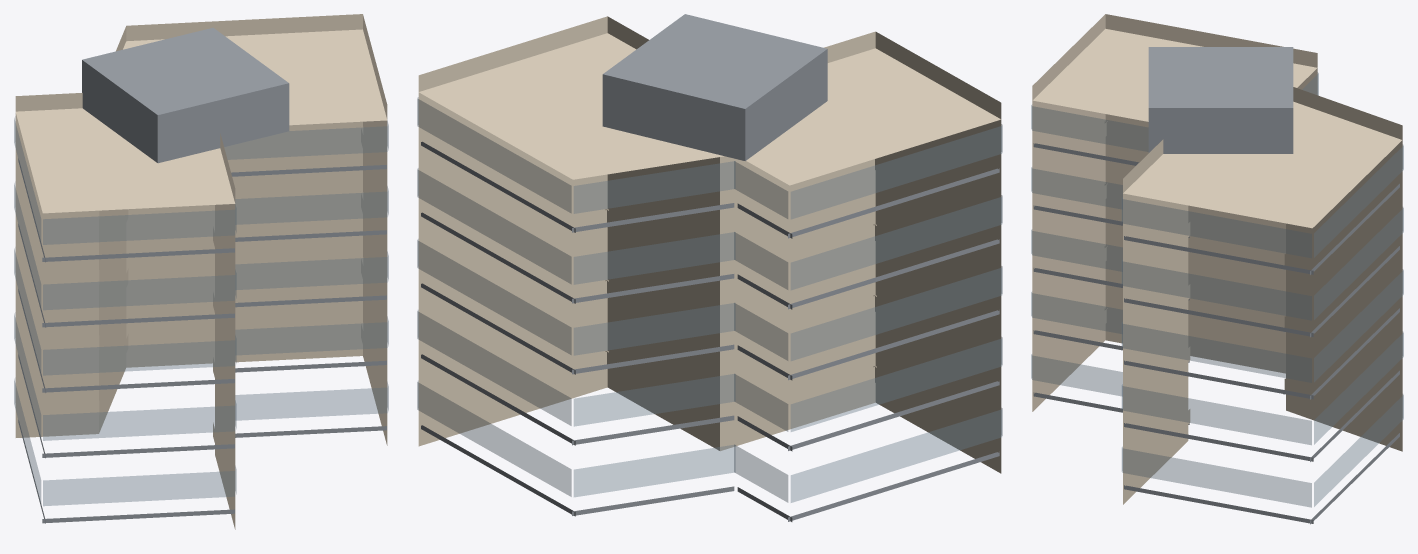
The picture shows the model from 3 angles, left to right: view 1: azimuth 30°, elevation 25°; view 2: azimuth 150°, elevation 25°; view 3: azimuth 270°, elevation 25°; orthographic projection. The views are drawn at different scales.
Parts seen in each view (by area): view 1: 382403604_NITTTR_OchrePlaster, 382403604_NITTTR_Glazing, 382403604_NITTTR_BalconySlab; view 2: 382403604_NITTTR_OchrePlaster, 382403604_NITTTR_Glazing, 382403604_NITTTR_BalconySlab; view 3: 382403604_NITTTR_OchrePlaster, 382403604_NITTTR_Glazing, 382403604_NITTTR_BalconySlab.
Part boxes in pixels (x1,y1,x2,y2): 382403604_NITTTR_OchrePlaster: (15,14,387,529); 382403604_NITTTR_Glazing: (14,118,388,505); 382403604_NITTTR_BalconySlab: (18,27,386,523); 382403604_NITTTR_OchrePlaster: (418,16,1001,473); 382403604_NITTTR_Glazing: (417,97,1002,502); 382403604_NITTTR_BalconySlab: (421,14,999,521); 382403604_NITTTR_OchrePlaster: (1032,14,1402,504); 382403604_NITTTR_Glazing: (1031,73,1403,507); 382403604_NITTTR_BalconySlab: (1033,47,1399,524).
Bounding box in the file's own units: 26.25 × 21.8 × 20.6.
